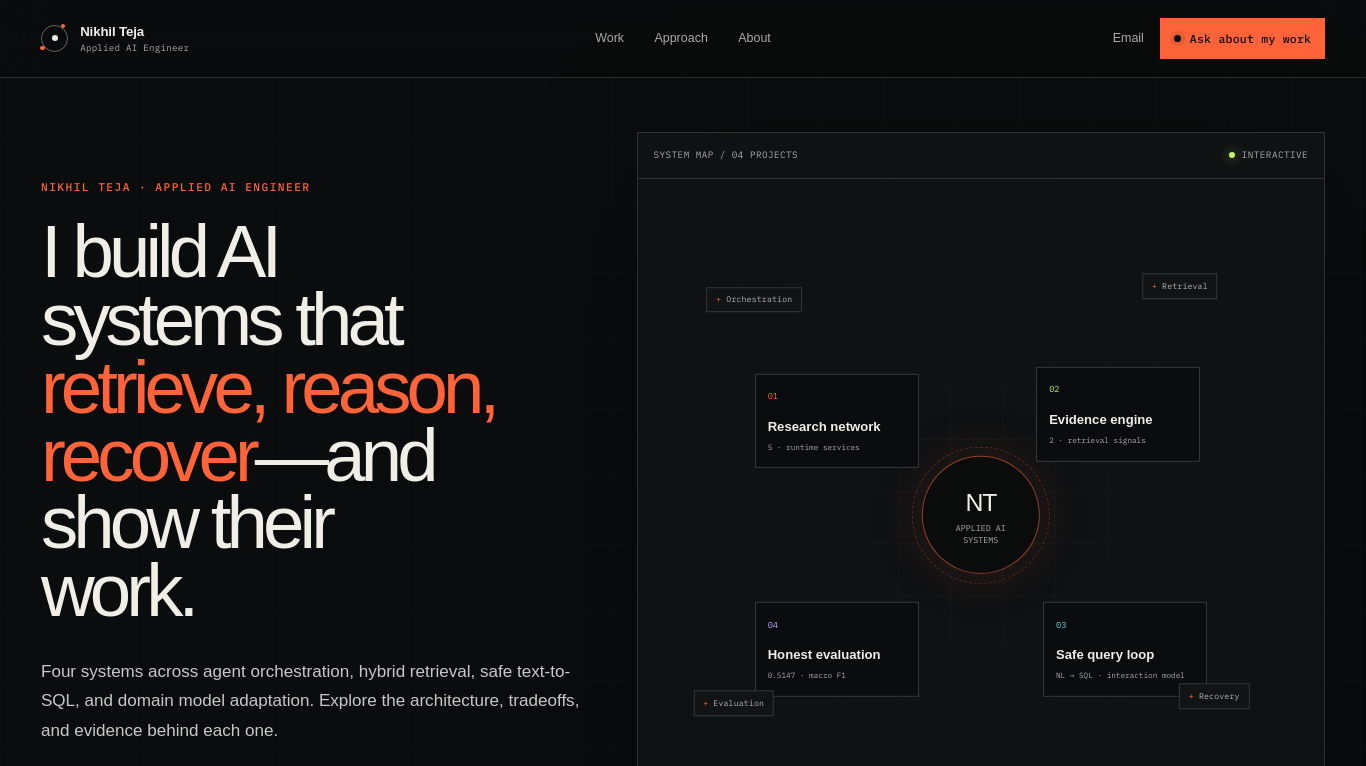
Scenario: portfolio experience › uses capability nodes as an accessible project filter
Click the button "+ Evaluation": (734, 703) [693,690,774,716]
(page scrolled)
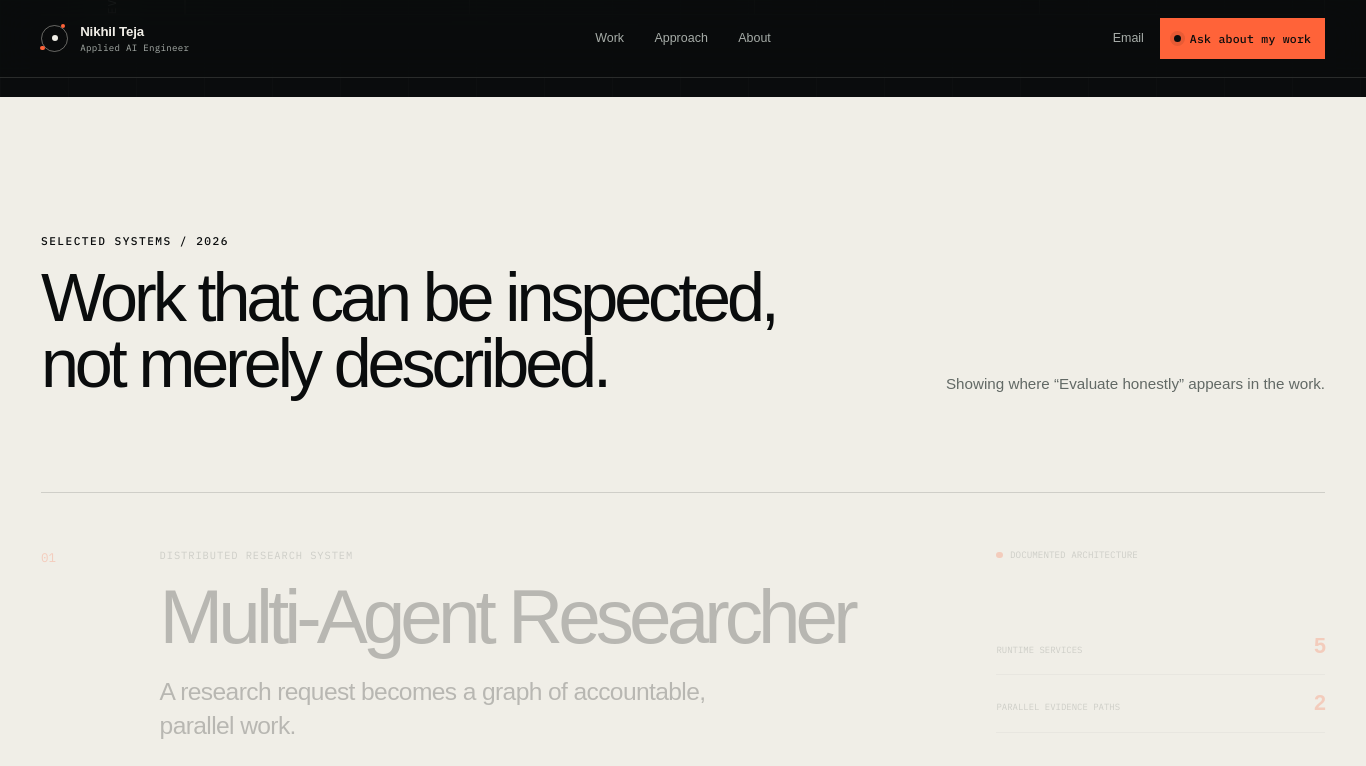
Result: the text "Showing where “Evaluate honestly” appears in the work." is shown at [946,372,1325,397]
